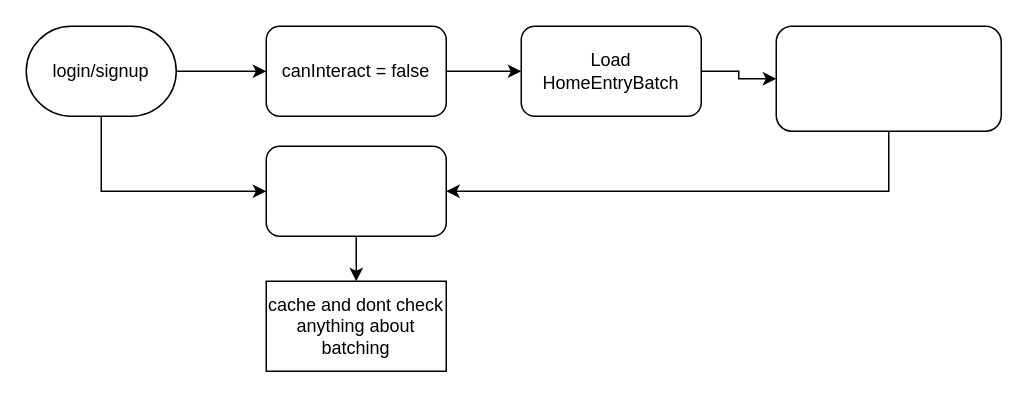
This 1028x398 diagram has some shape labels left out. The shapes that lost their labels are listed below. From the top down, each one's centre as x and y in pixels, then its label:
point (888, 78): useEntryBatch updates values and checks if we need circle
point (355, 190): canInteract = true
